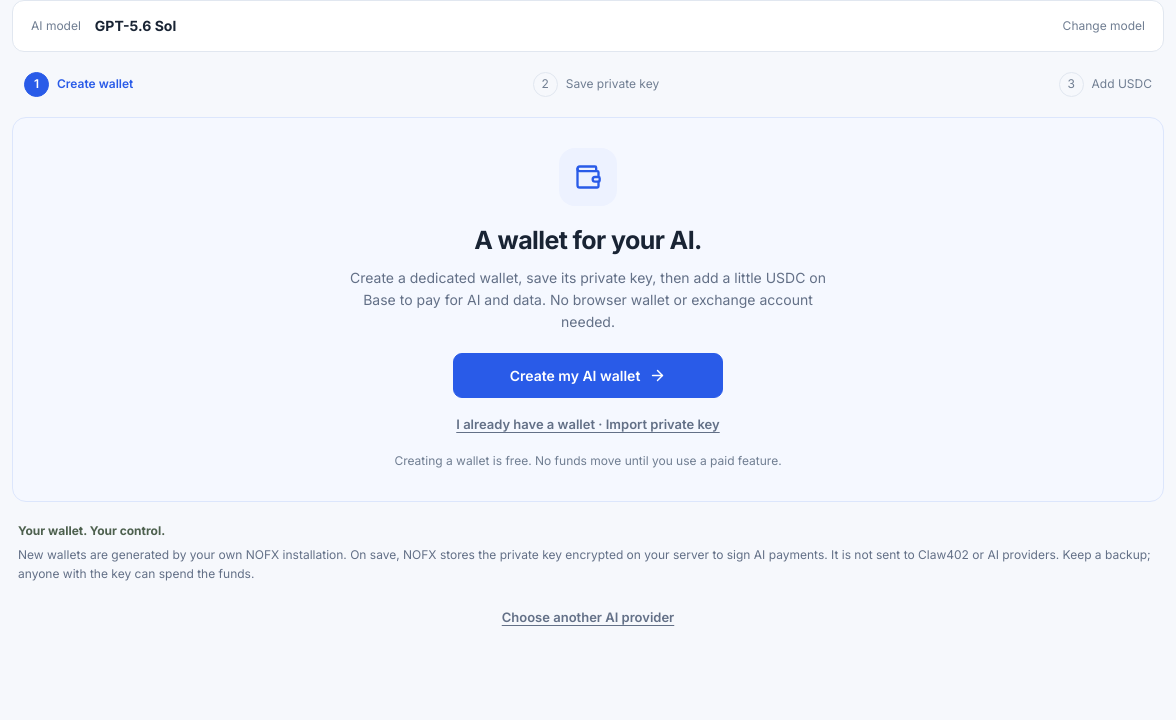
Test: handles generation and clipboard failures without pretending success
Click the button "Create my AI wallet" at (588, 375), box [453,352,723,398]
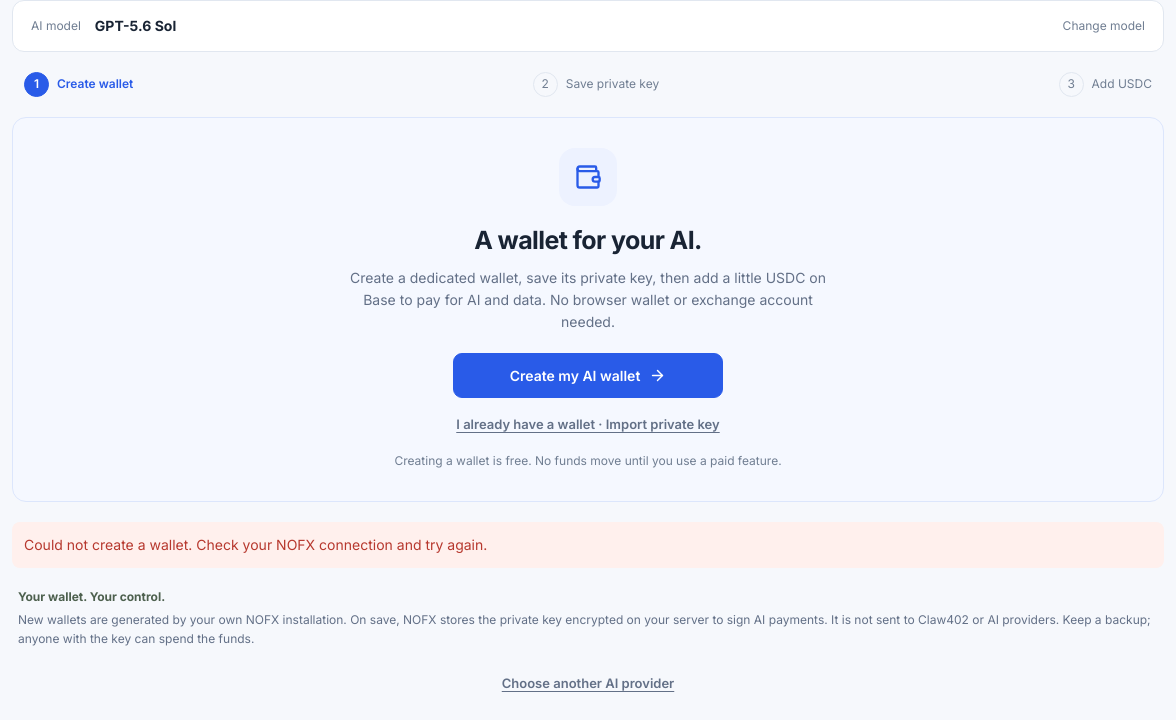
Expected: the message shows "Could not create a wallet", [24,536,487,553]
Click the button "Create my AI wallet" at (588, 375), box [453,352,723,398]
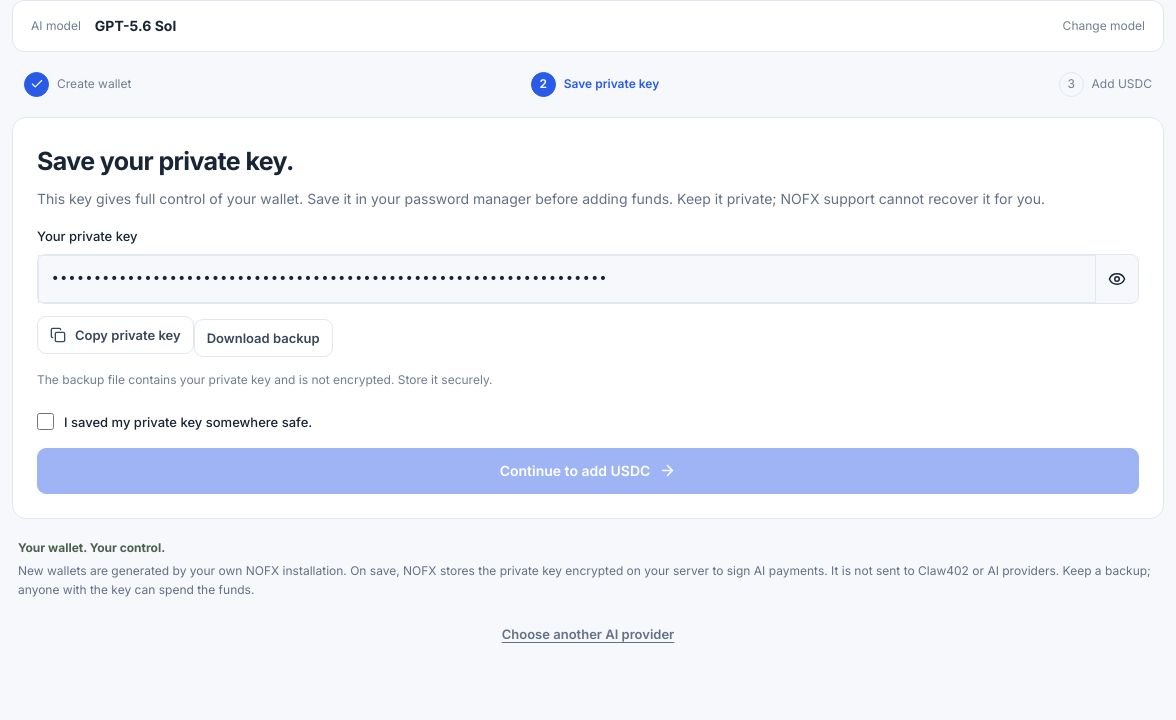
Expected: the heading "Save your private key." is shown, [37,146,294,176]
Click the button "Copy private key" at (115, 335), box [37,316,194,354]
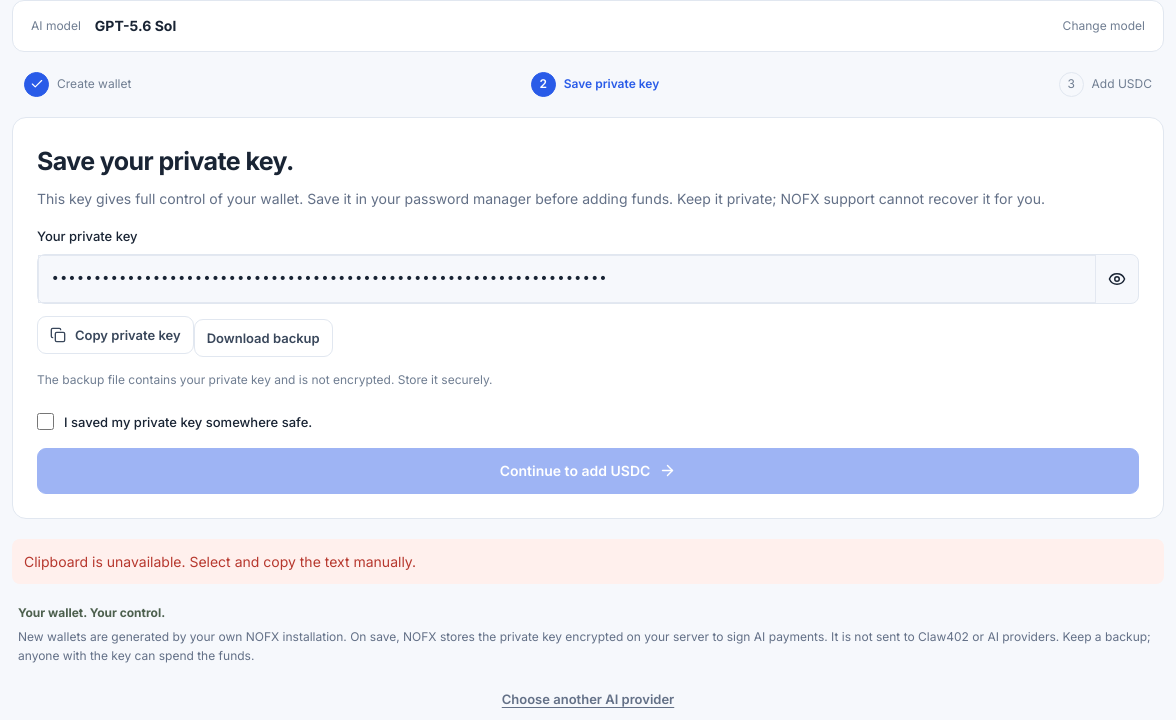
Expected: the message shows "Clipboard is unavailable", [24,553,416,570]
